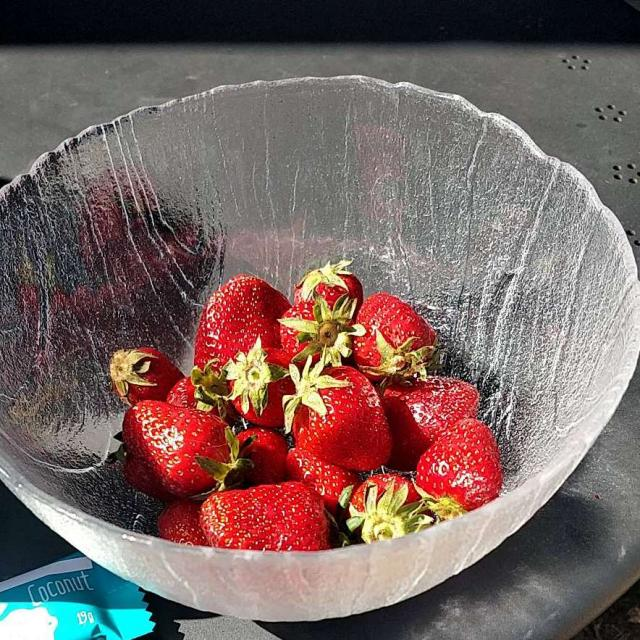strawberries: (119, 263, 498, 545)
